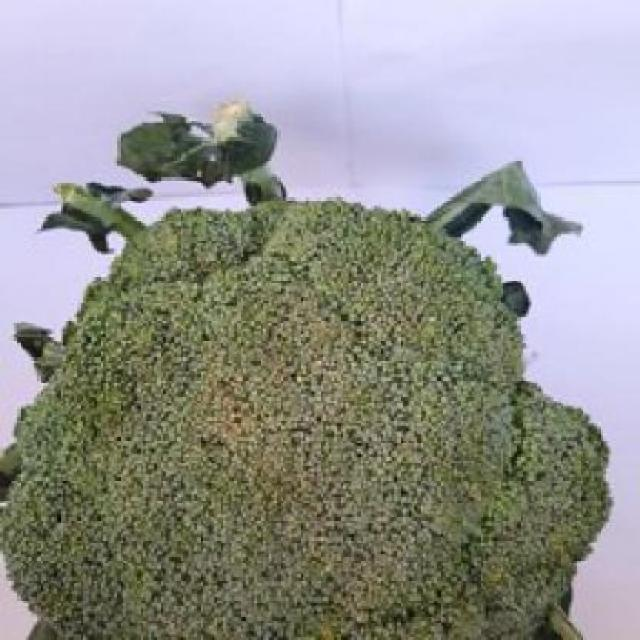broccoli: (11, 192, 600, 638)
